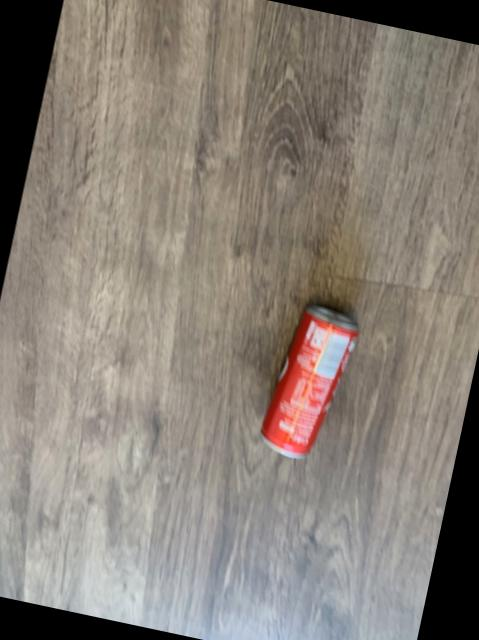metal: (260, 302, 356, 455)
